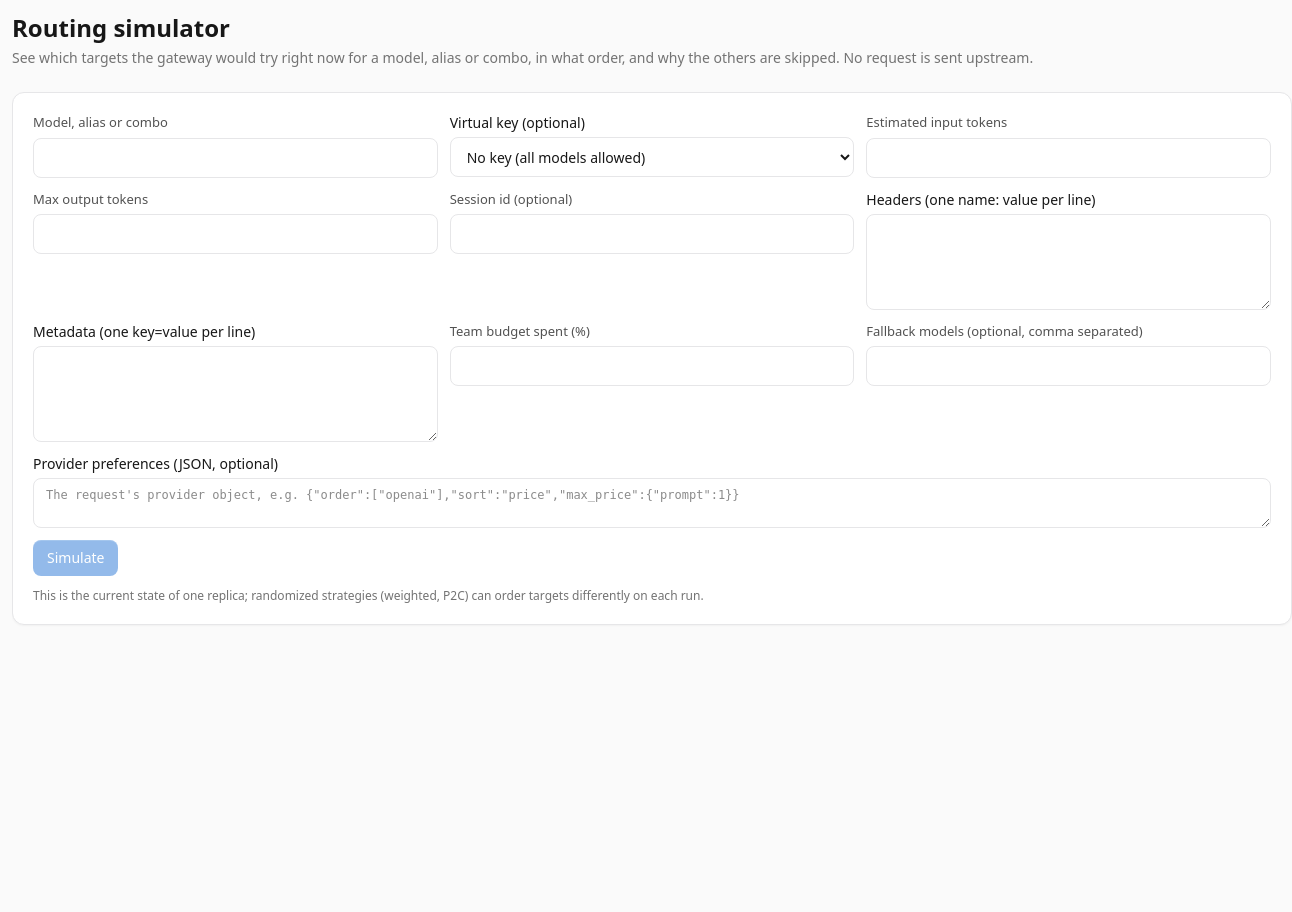
routing simulator data policy (card 32.5) › shows the effective data policy and the reasons it removed targets
The width and height of the screenshot is (1292, 912).
Type "chat" into the field labelled "Model, alias or combo". click: [235, 158]
box: 33,138 -> 438,178
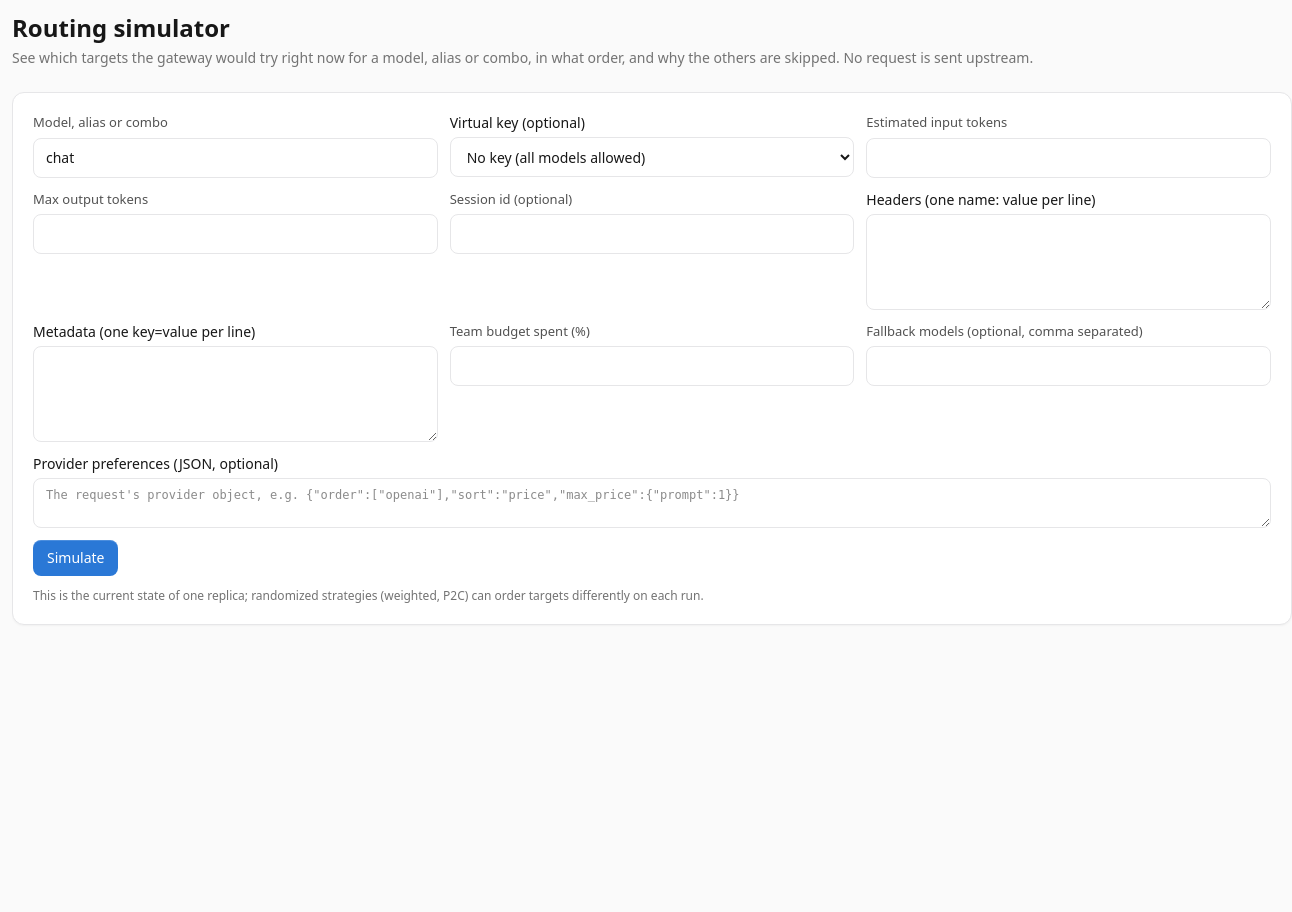
Click the button "Simulate". click: [76, 558]
box: 33,540 -> 118,576
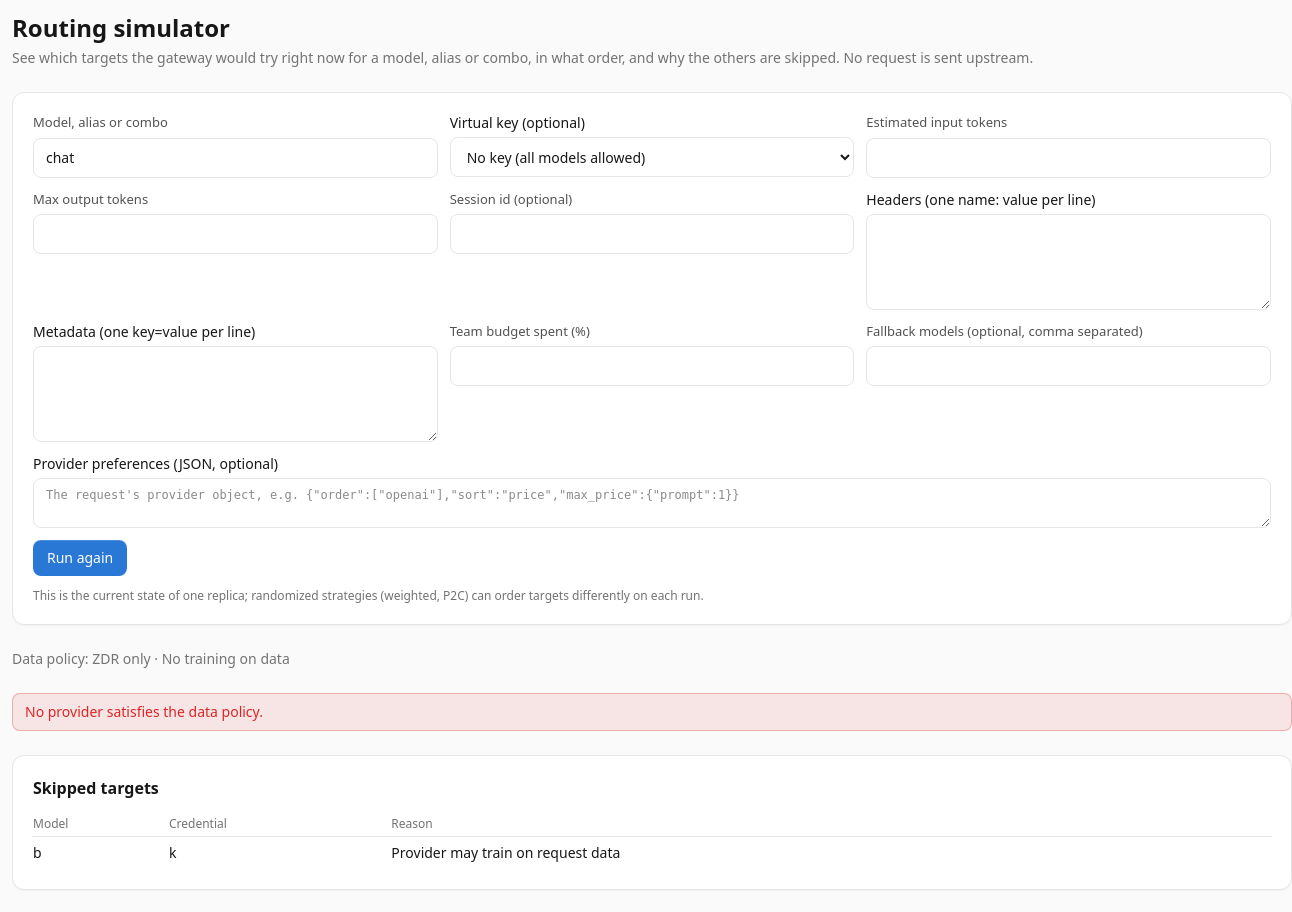
Expected: the text with test id "simulator-data-policy" reads "Data policy: ZDR only · No training on data", 12,649 -> 290,668
Expected: the text "No provider satisfies the data policy." is shown, 12,693 -> 1291,731
Expected: the text "Provider may train on request data" is shown, 391,836 -> 1271,869
